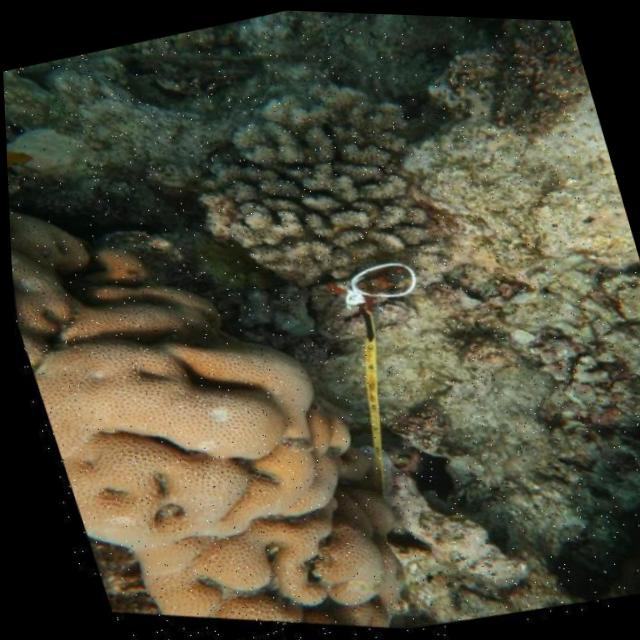Healthy Coral: (6, 161, 491, 640)
